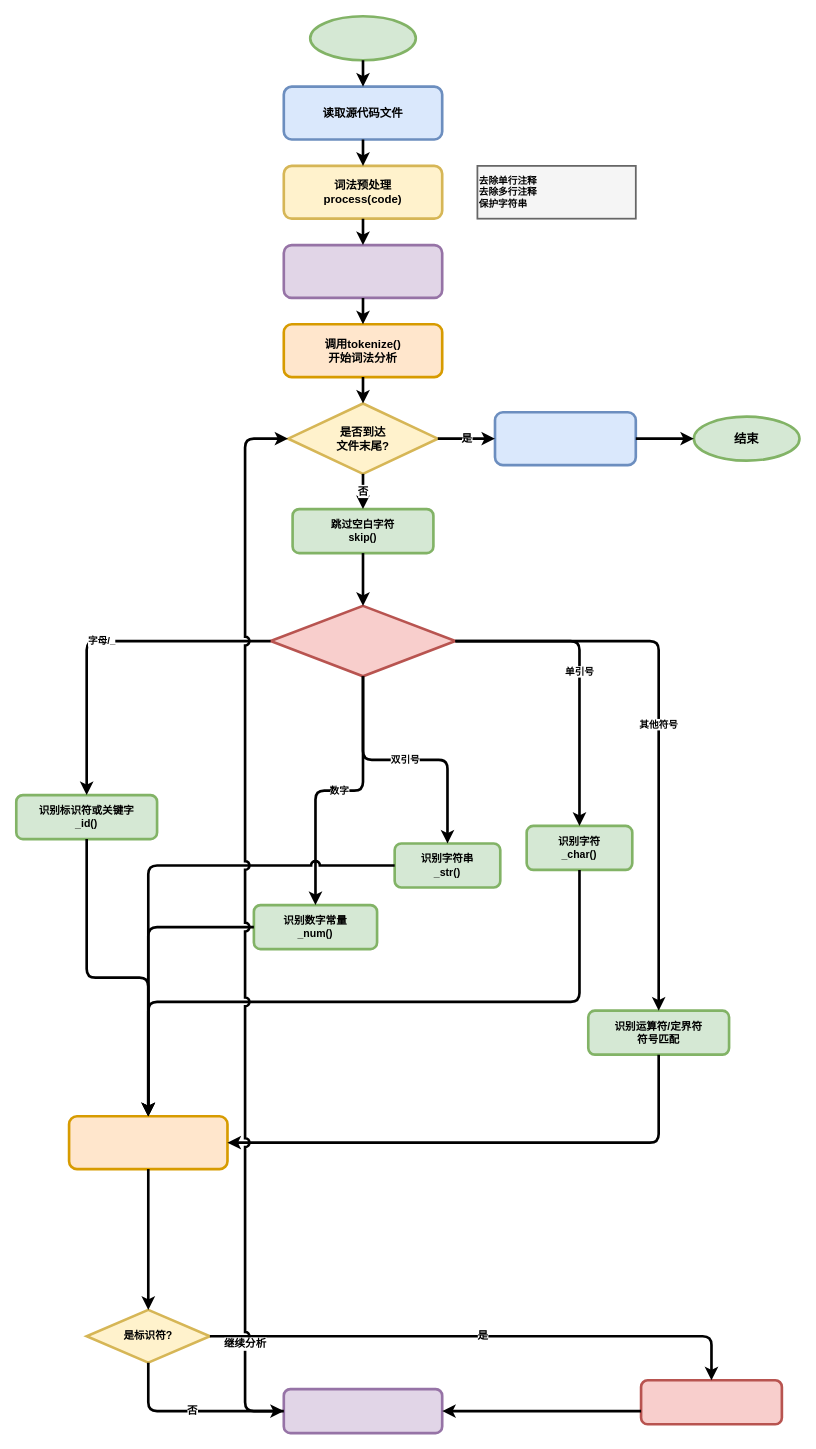
This 816x1449 diagram has some shape labels left out. The shapes that lost their labels are listed below. From the top down, each one's centre as x and y in pixels, then its label:
At point 362,38: "开始".
At point 362,271: "初始化词法分析器 Lexer(code)".
At point 565,438: "输出Token列表 和符号表".
At point 362,640: "判断当前字符类型".
At point 147,1142: "生成Token (type, attribute)".
At point 362,1410: "保存Token到列表".
At point 711,1402: "添加到符号表 table.add(name)".
